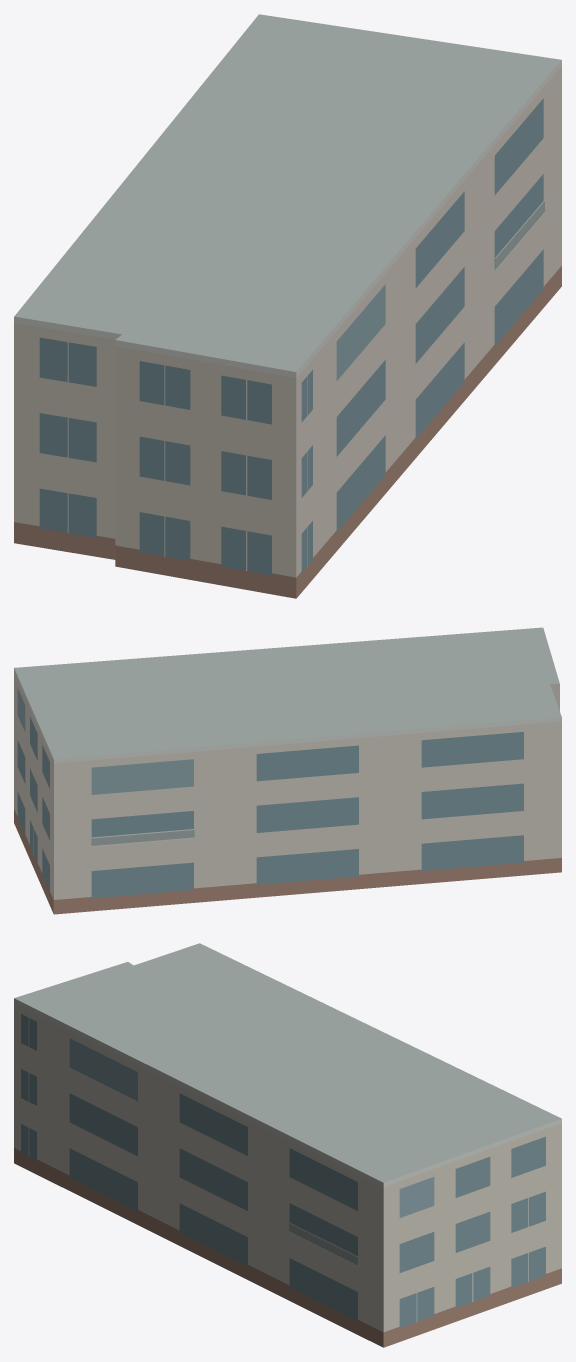
File: survey-upis-32826700.glb
The picture shows the model from 3 angles, top to bottom: view 1: azimuth 30°, elevation 25°; view 2: azimuth 150°, elevation 25°; view 3: azimuth 270°, elevation 25°; orthographic projection. The views are drawn at different scales.
Visible parts, largest first — view 1: survey-upis-32826700.tmp; view 2: survey-upis-32826700.tmp; view 3: survey-upis-32826700.tmp.
Boxes of the visible parts, left/top/right/bottom form: survey-upis-32826700.tmp: left=14, top=14, right=561, bottom=598; survey-upis-32826700.tmp: left=14, top=627, right=561, bottom=914; survey-upis-32826700.tmp: left=14, top=943, right=561, bottom=1347.
Size of the model in its own units: 28.49 by 9.15 by 27.53.
